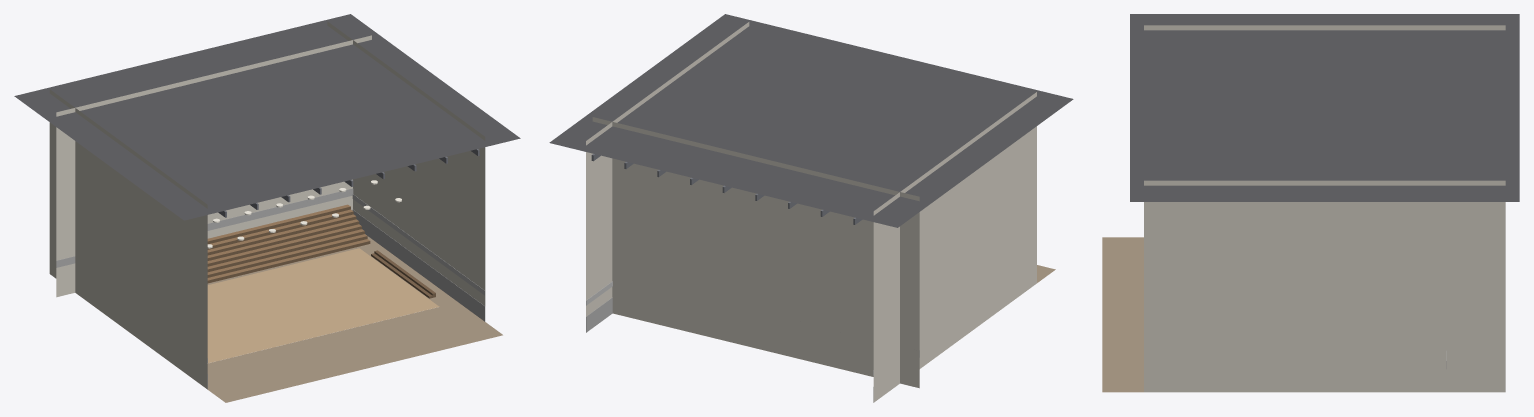
File: gym.75428e8e.glb
3 renders of one model, left to right at view 1: azimuth 30°, elevation 25°; view 2: azimuth 150°, elevation 25°; view 3: azimuth 270°, elevation 25°, orthographic. The views are drawn at different scales.
Visible parts, largest first — view 1: gym_shell, gym_floor; view 2: gym_shell; view 3: gym_shell, gym_floor.
Part boxes in pixels (left/top/right/bottom): gym_shell: left=14, top=14, right=520, bottom=389; gym_floor: left=207, top=234, right=502, bottom=402; gym_shell: left=549, top=14, right=1073, bottom=402; gym_shell: left=1130, top=14, right=1519, bottom=392; gym_floor: left=1102, top=237, right=1143, bottom=392.
Bounding box in the file's own units: 160 × 84.03 × 150.
